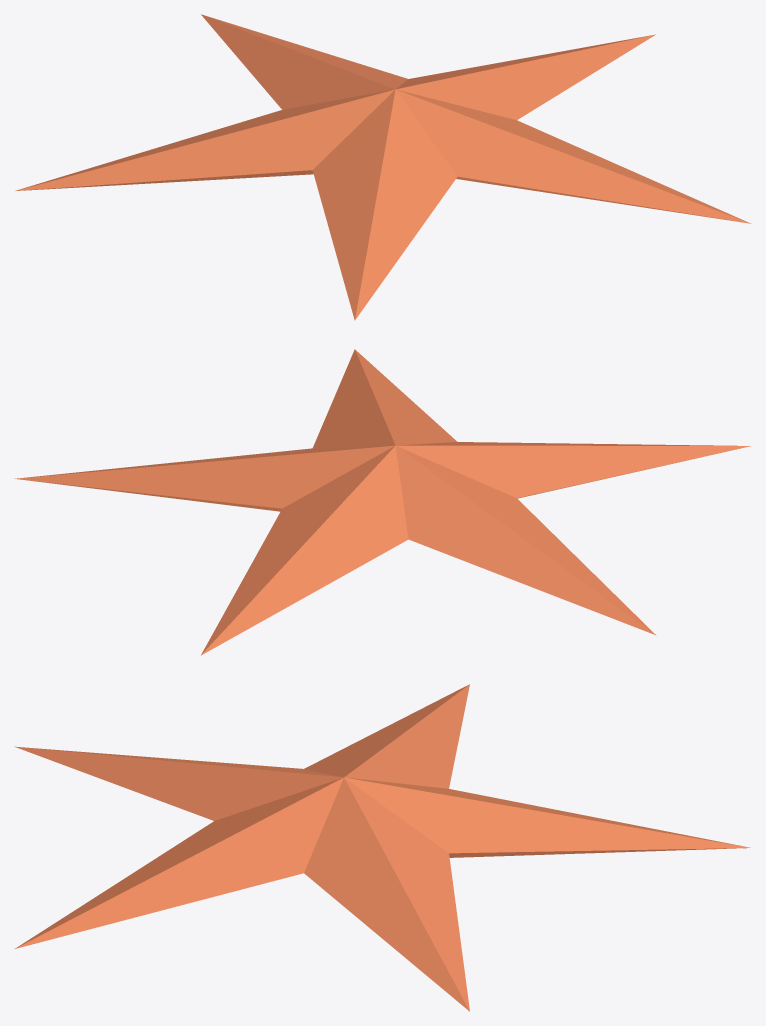
File: starfish.glb
3 renders of one model, top to bottom at view 1: azimuth 30°, elevation 25°; view 2: azimuth 150°, elevation 25°; view 3: azimuth 270°, elevation 25°, orthographic. The views are drawn at different scales.
Visible parts, largest first — view 1: starfish; view 2: starfish; view 3: starfish.
Part boxes in pixels (x1=…): starfish: x1=15, y1=14, x2=751, y2=320; starfish: x1=14, y1=349, x2=750, y2=655; starfish: x1=14, y1=684, x2=750, y2=1011.
Bounding box in the file's own units: 0.2092 × 0.025 × 0.199.
